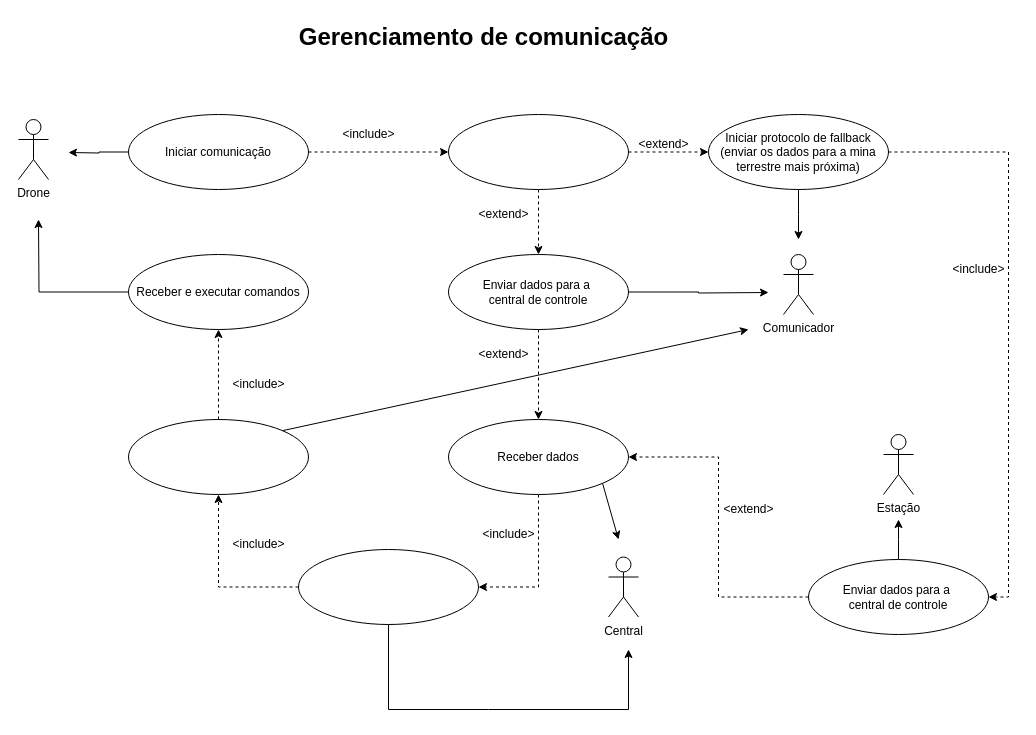
Some shapes in this 1036 by 735 pixel diagram are drawn without their labels. Each missing label, with the centre of its shape:
"Enviar comandos para o drone" belongs at point (388, 586).
"Estabelecer comunicação segura" belongs at point (538, 152).
"Transmitir comandos em tempo real" belongs at point (218, 456).
